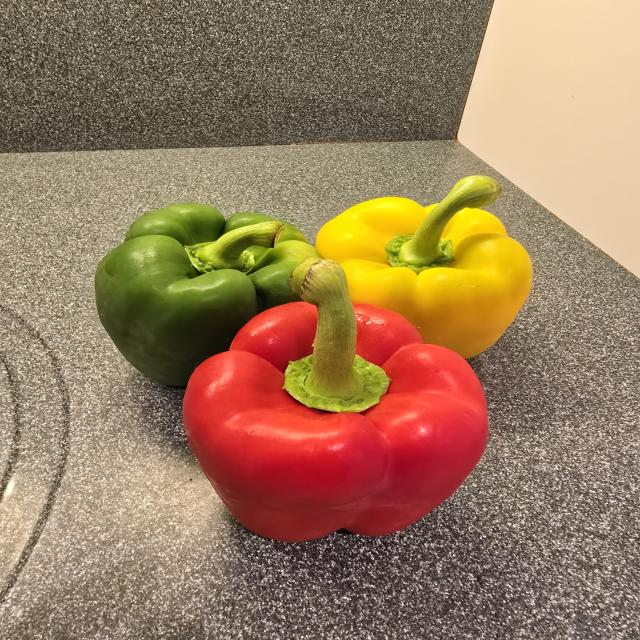Bell Pepper: (183, 257, 488, 540), (95, 204, 322, 387), (316, 175, 532, 358)
